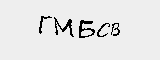Б: (79, 17, 95, 38)
В: (110, 22, 122, 40)
Г: (37, 14, 50, 36)
М: (52, 17, 76, 39)
С: (97, 19, 110, 40)
